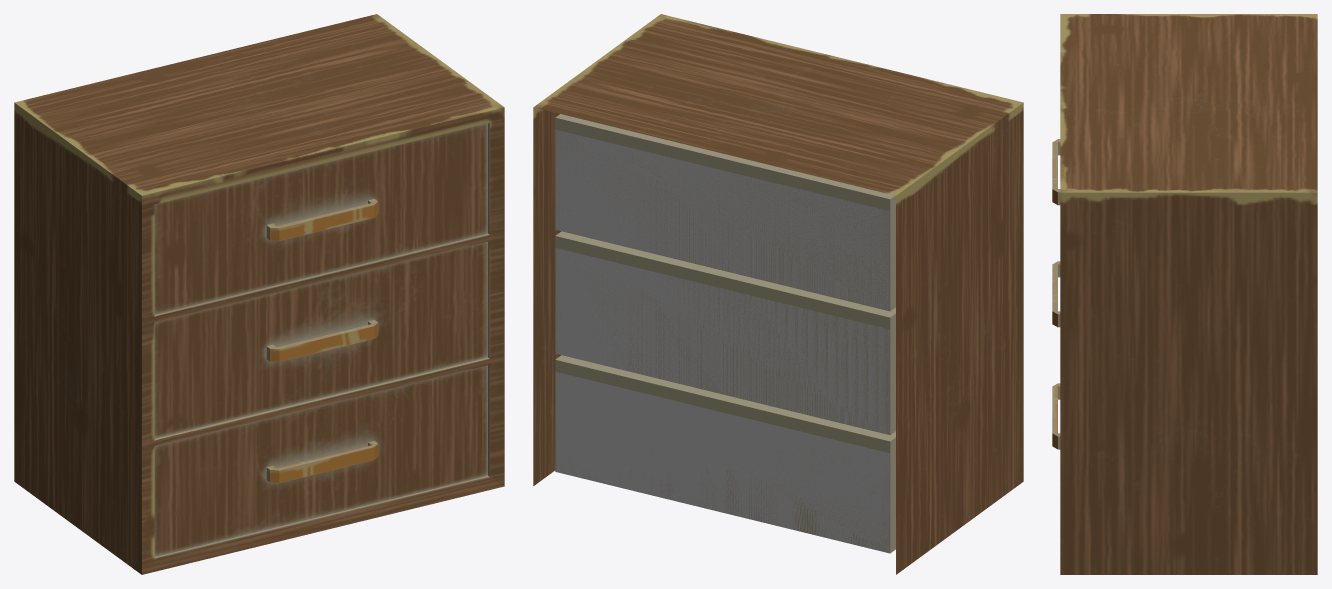
The model's file is SmallCupboard_Textured.fbx.
3 renders of one model, left to right at view 1: azimuth 30°, elevation 25°; view 2: azimuth 150°, elevation 25°; view 3: azimuth 270°, elevation 25°, orthographic.
Visible parts, largest first — view 1: bedTableBody, bedTableMid, bedTableTop, bedTableBottom; view 2: bedTableBody, bedTableMid, bedTableTop, bedTableBottom; view 3: bedTableBody, bedTableBottom, bedTableMid, bedTableTop.
Boxes of the visible parts, left/top/right/bottom form: bedTableBody: left=14, top=14, right=504, bottom=574; bedTableMid: left=154, top=241, right=487, bottom=438; bedTableTop: left=154, top=123, right=487, bottom=314; bedTableBottom: left=154, top=365, right=487, bottom=556; bedTableBody: left=533, top=14, right=1023, bottom=574; bedTableMid: left=555, top=247, right=895, bottom=434; bedTableTop: left=555, top=129, right=895, bottom=311; bedTableBottom: left=555, top=371, right=895, bottom=553; bedTableBody: left=1060, top=14, right=1317, bottom=574; bedTableBottom: left=1052, top=383, right=1060, bottom=449; bedTableMid: left=1052, top=261, right=1060, bottom=327; bedTableTop: left=1052, top=139, right=1060, bottom=205.
Size of the model in its own units: 0.8285 by 0.8274 by 0.5202.
1 material, 1 textured.
